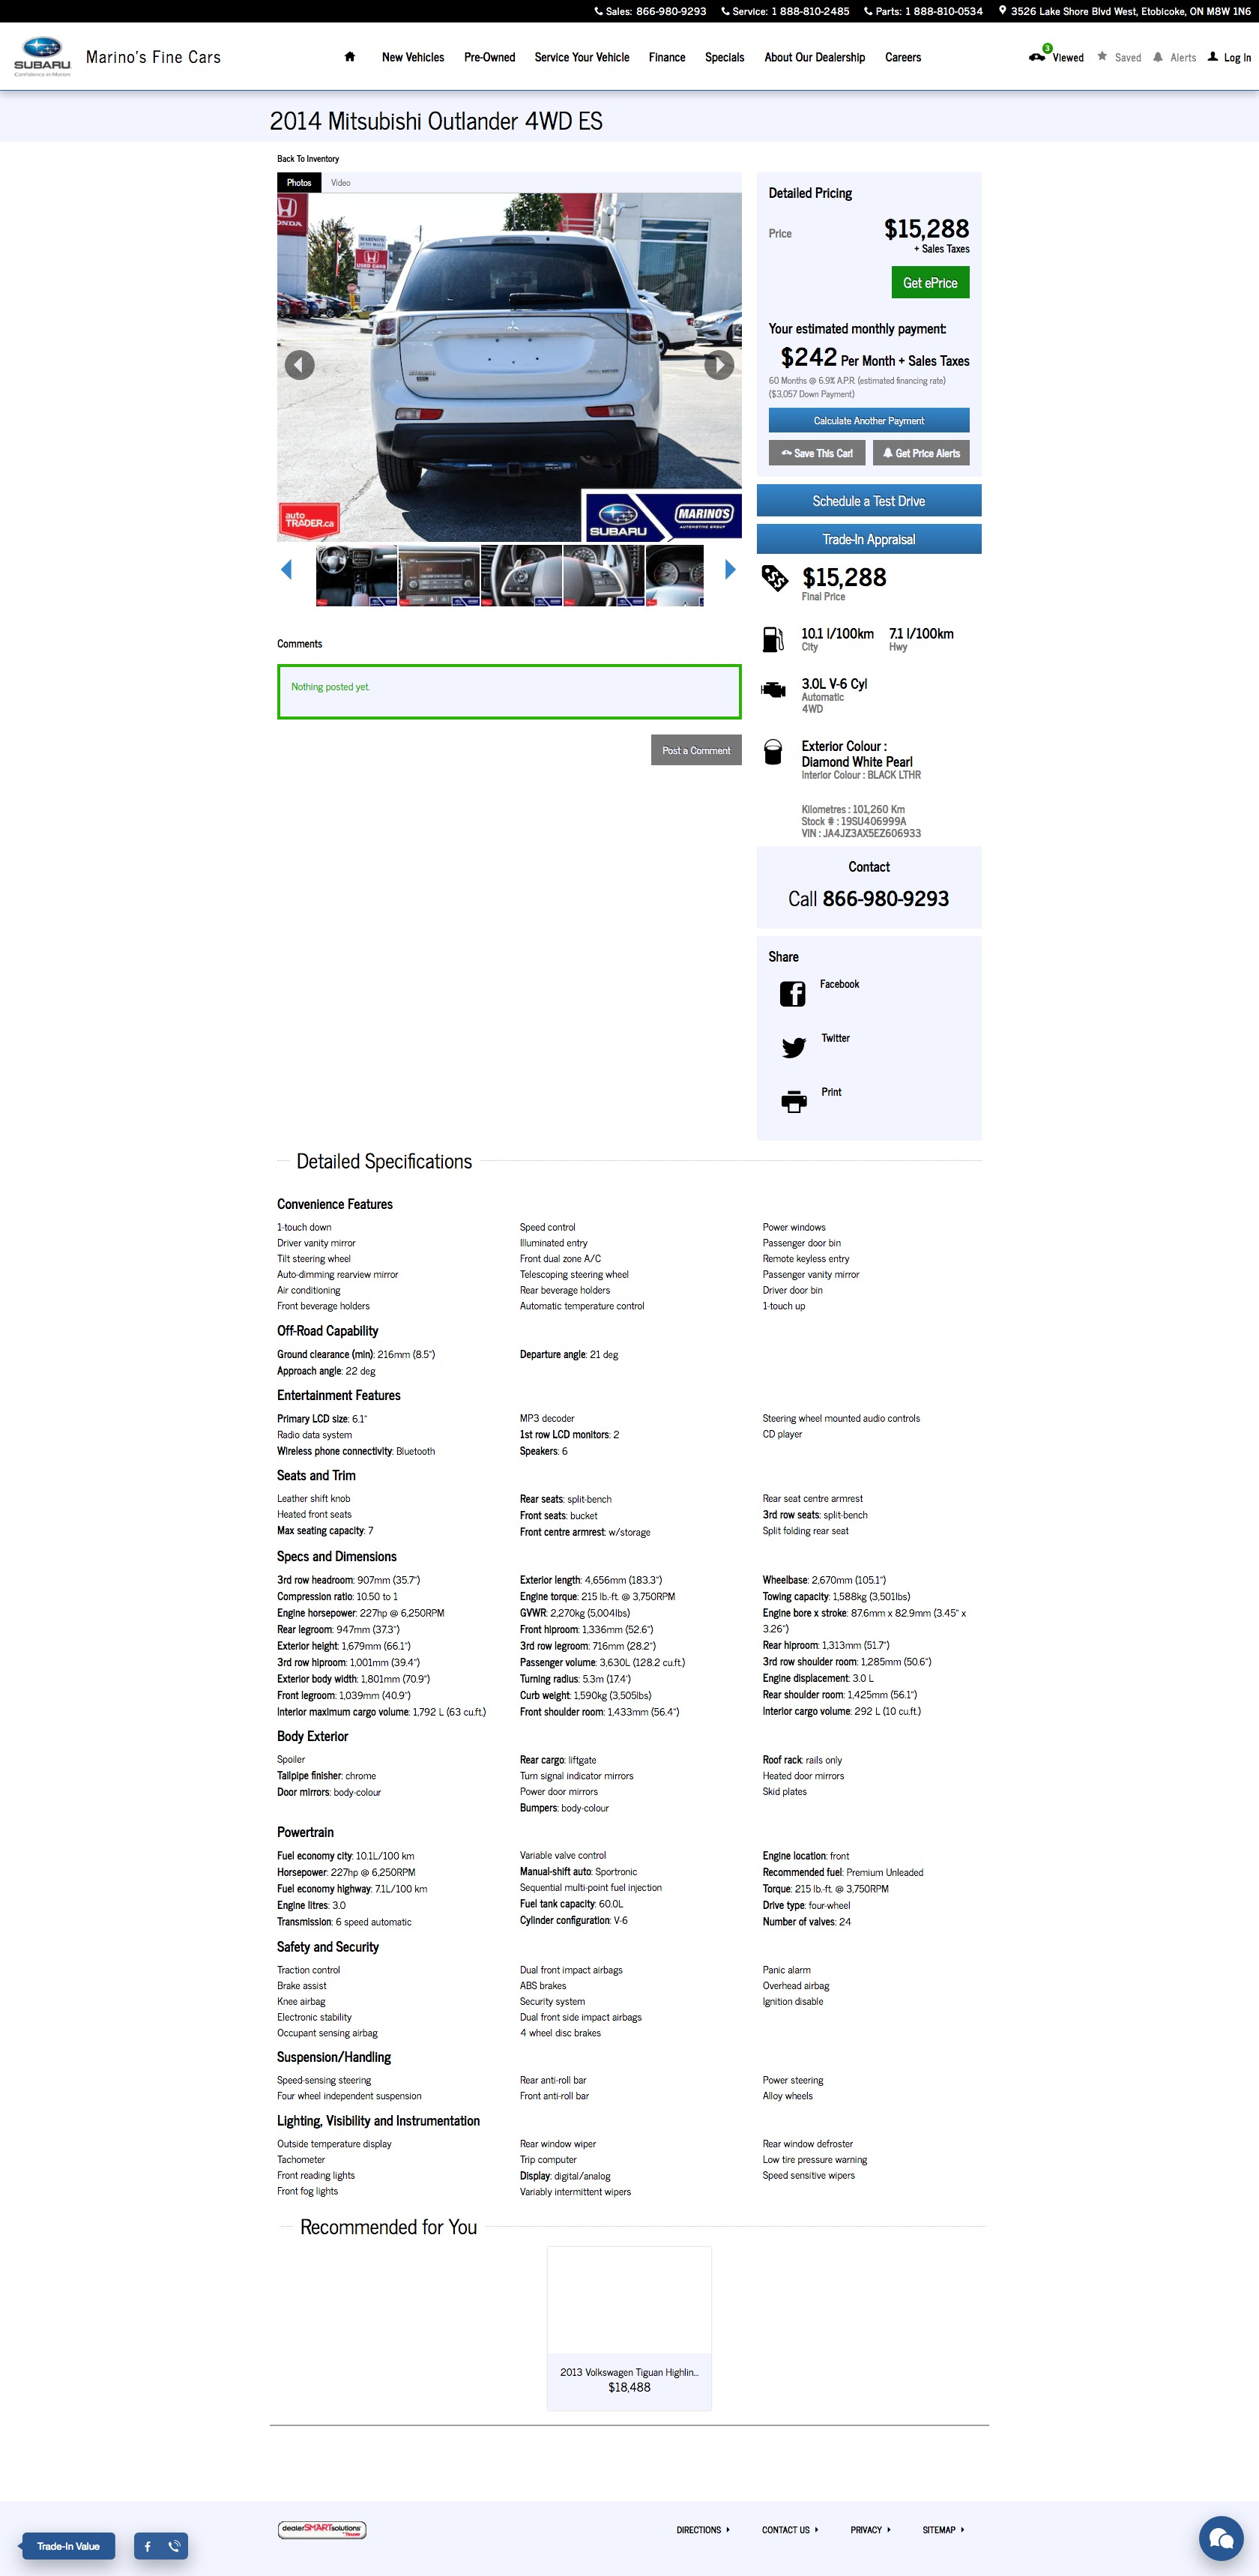car: (725, 559, 738, 582)
